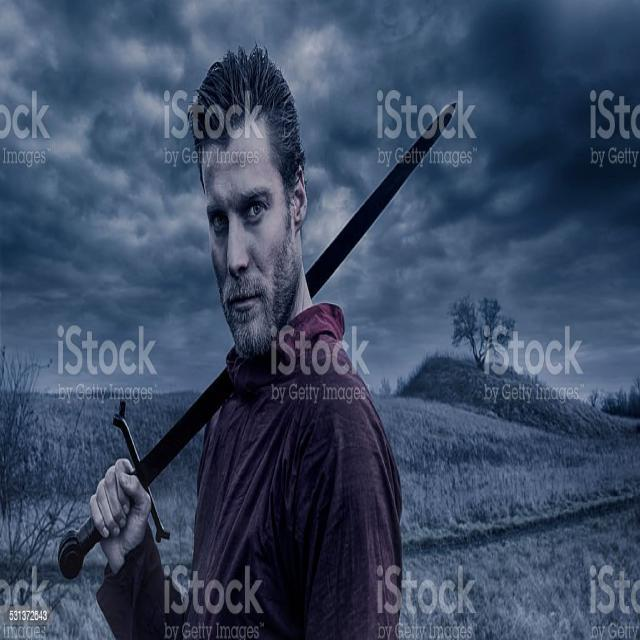long sword: (54, 99, 462, 580)
